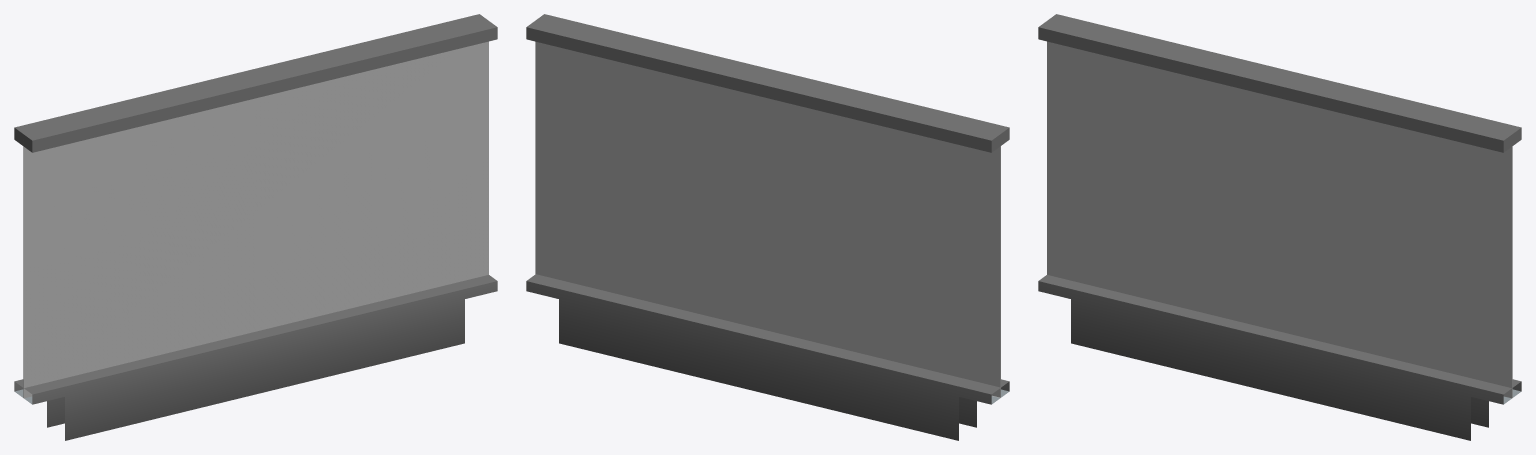
File: PagerB2.fbx
The picture shows the model from 3 angles, left to right: view 1: azimuth 30°, elevation 25°; view 2: azimuth 150°, elevation 25°; view 3: azimuth 330°, elevation 25°; orthographic projection.
Visible parts, largest first — view 1: PagerB2; view 2: PagerB2; view 3: PagerB2.
Part boxes in pixels (x1=…): PagerB2: x1=14, y1=14, x2=497, y2=440; PagerB2: x1=526, y1=14, x2=1009, y2=440; PagerB2: x1=1038, y1=14, x2=1521, y2=440.
Bounding box in the file's own units: 392 × 248 × 26.34.
